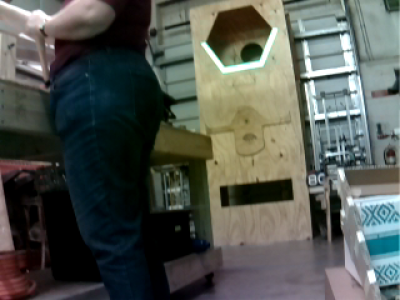target: (200, 28, 280, 73)
